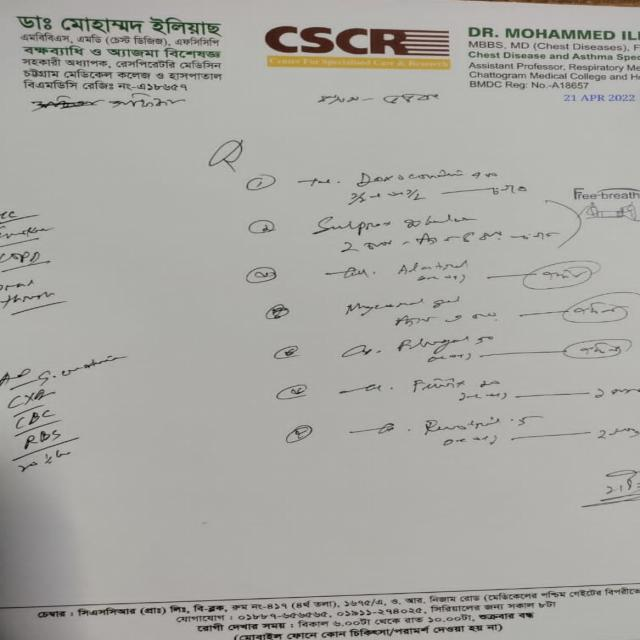Alatrol: (390, 260, 479, 277)
Doxocontin: (351, 163, 467, 190)
Finix: (403, 374, 475, 395)
